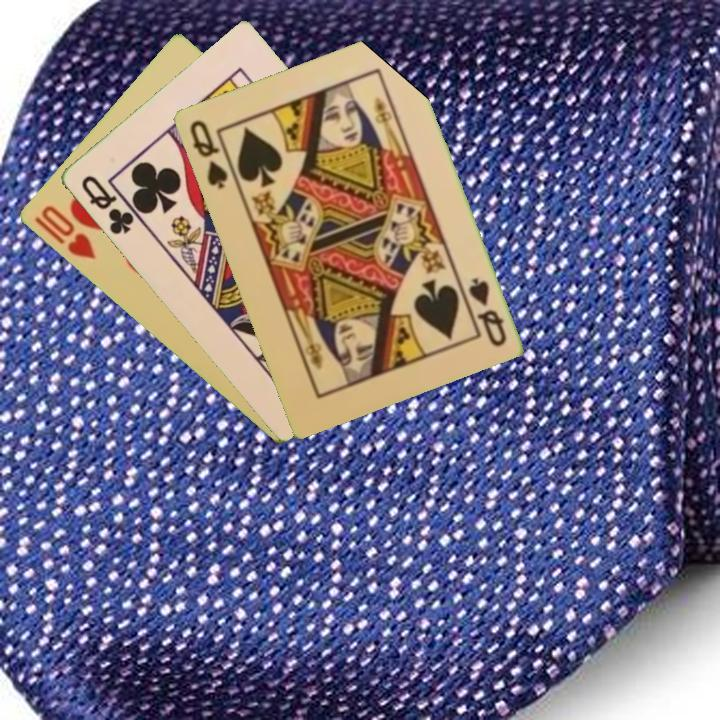10h: (37, 201, 99, 263)
Qc: (77, 171, 137, 238)
Qs: (185, 116, 231, 192), (464, 273, 509, 350)
